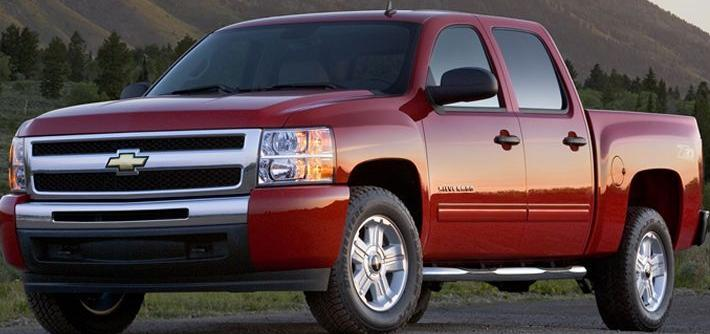front_view: (1, 115, 344, 291)
headlight: (248, 117, 343, 196)
side_glass: (433, 23, 575, 117)
